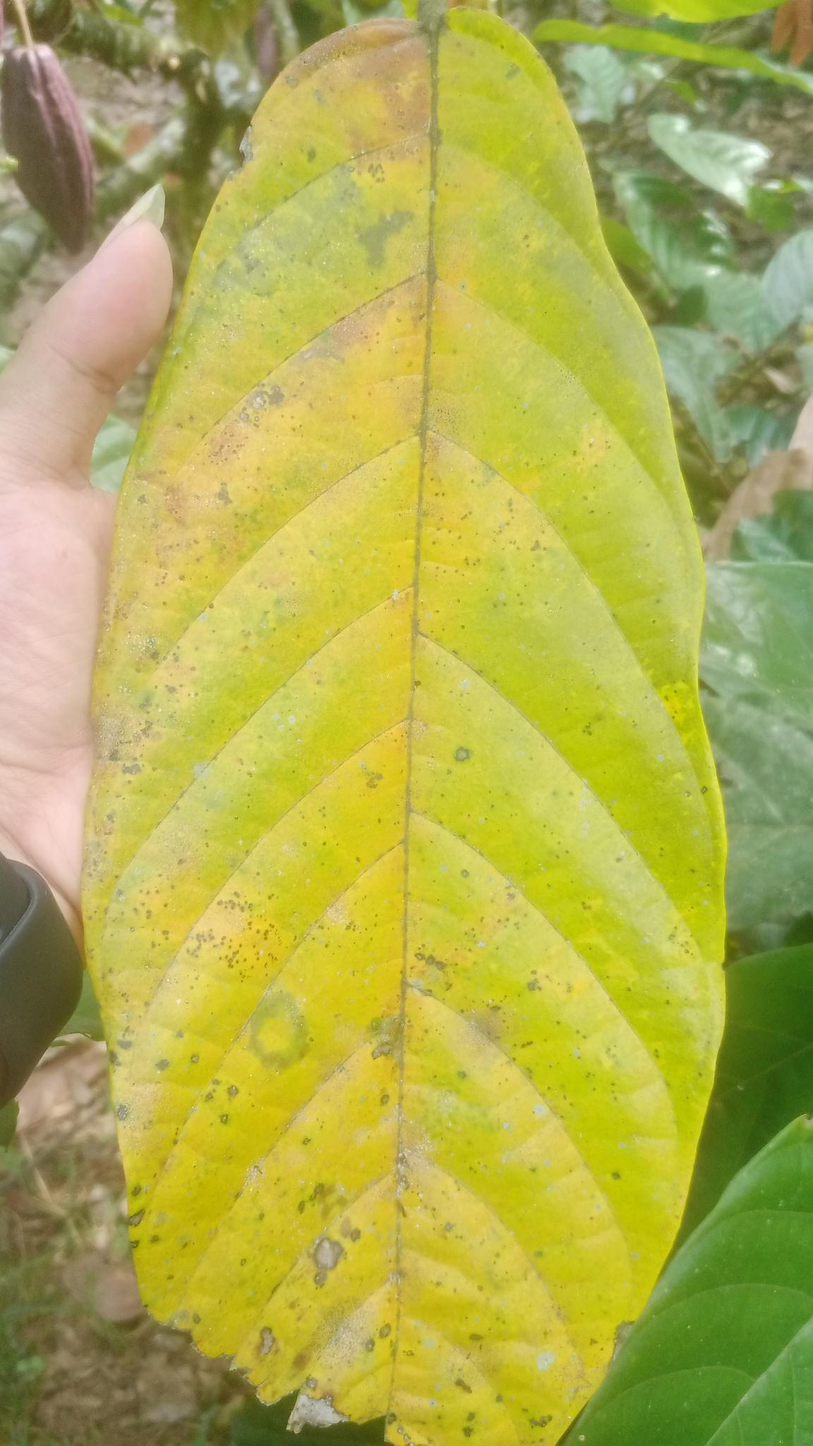Fosforo: (84, 6, 724, 1446)
